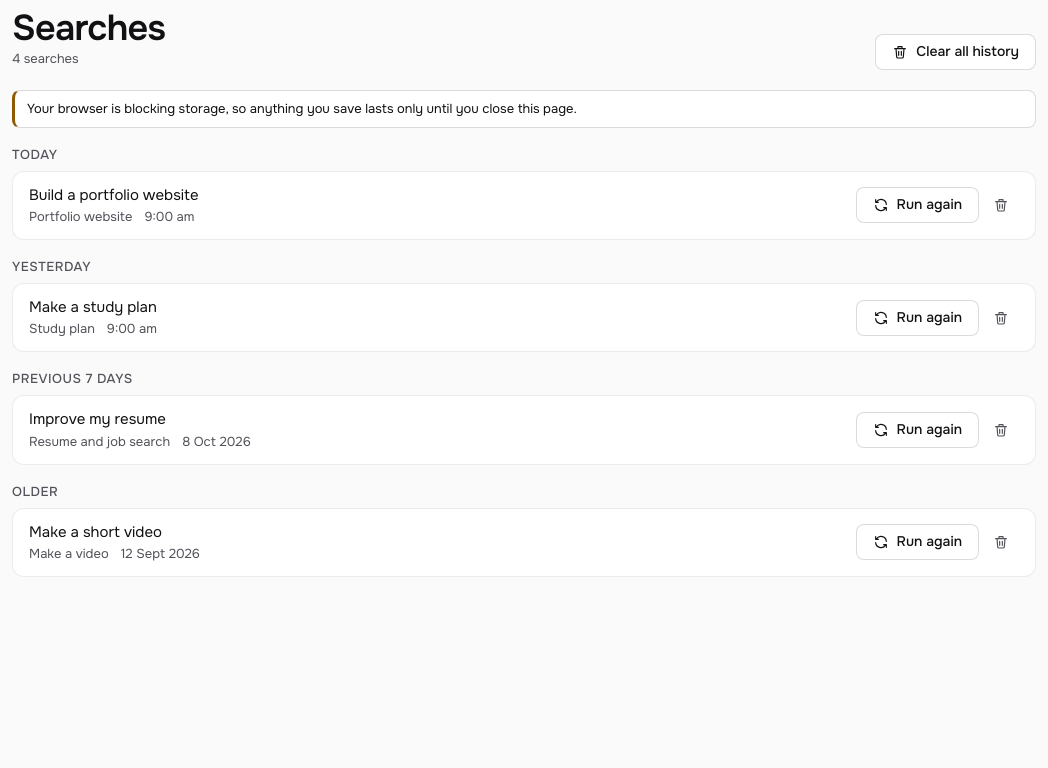
Test case: Searches page › deletes a single entry
This screenshot has width=1048, height=768.
Click the button named "Delete from history: Improve my resume" at (1001, 430), box [983,412,1019,448]
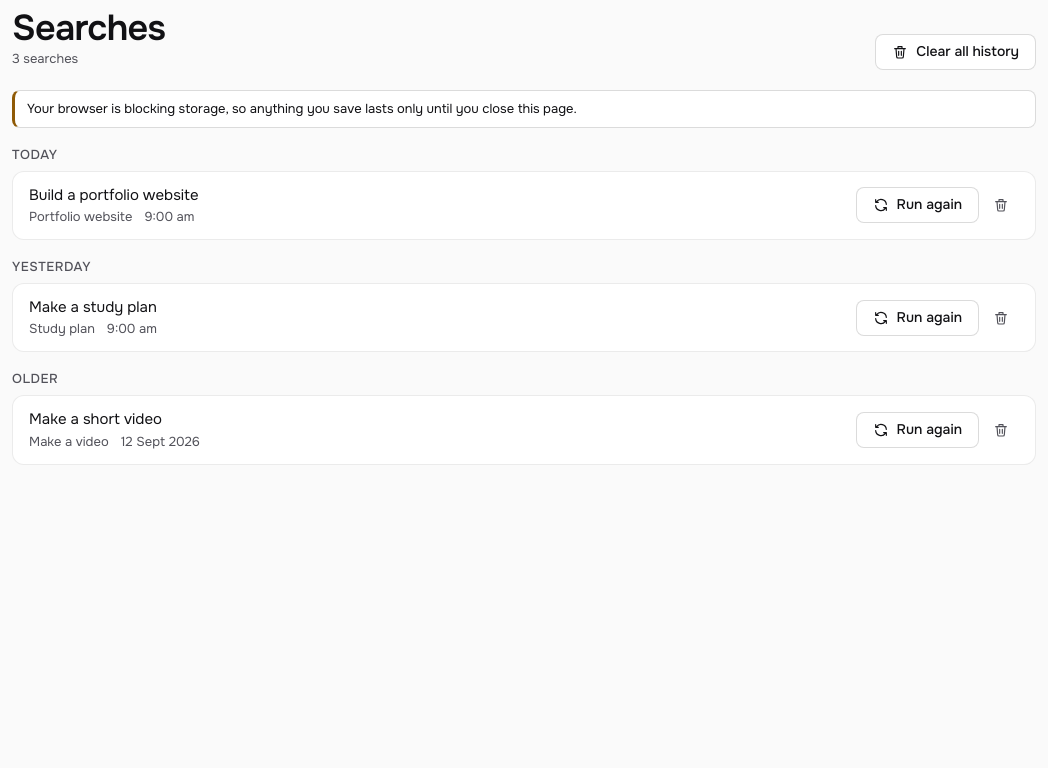
Result: the text "Improve my resume" is gone
